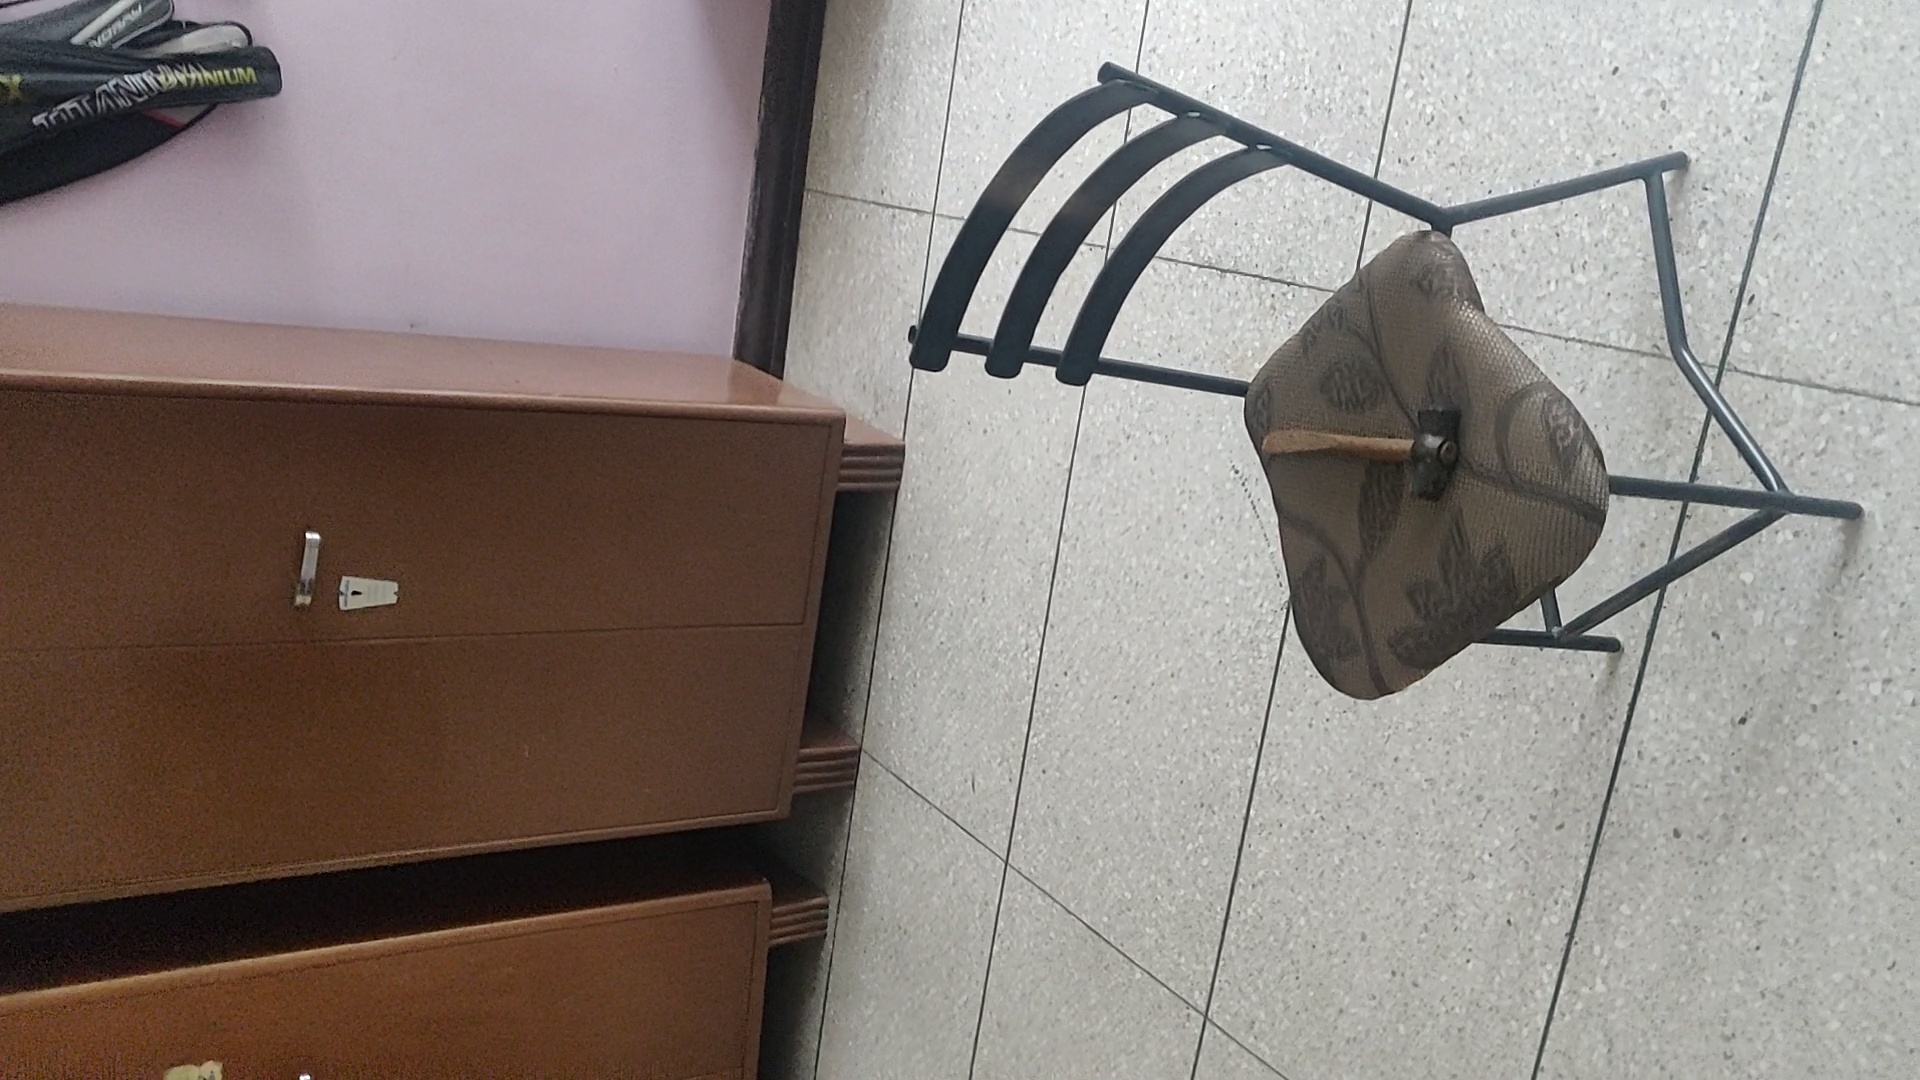hammer: (1259, 405, 1462, 506)
